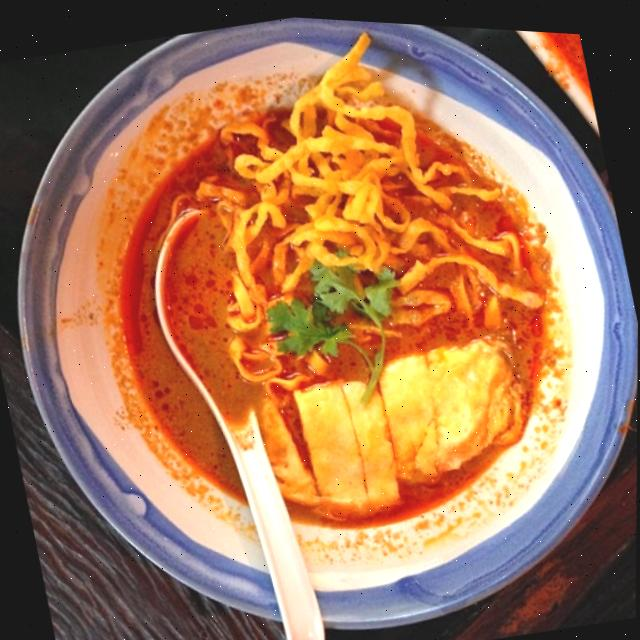面条主食: (26, 1, 640, 638)
